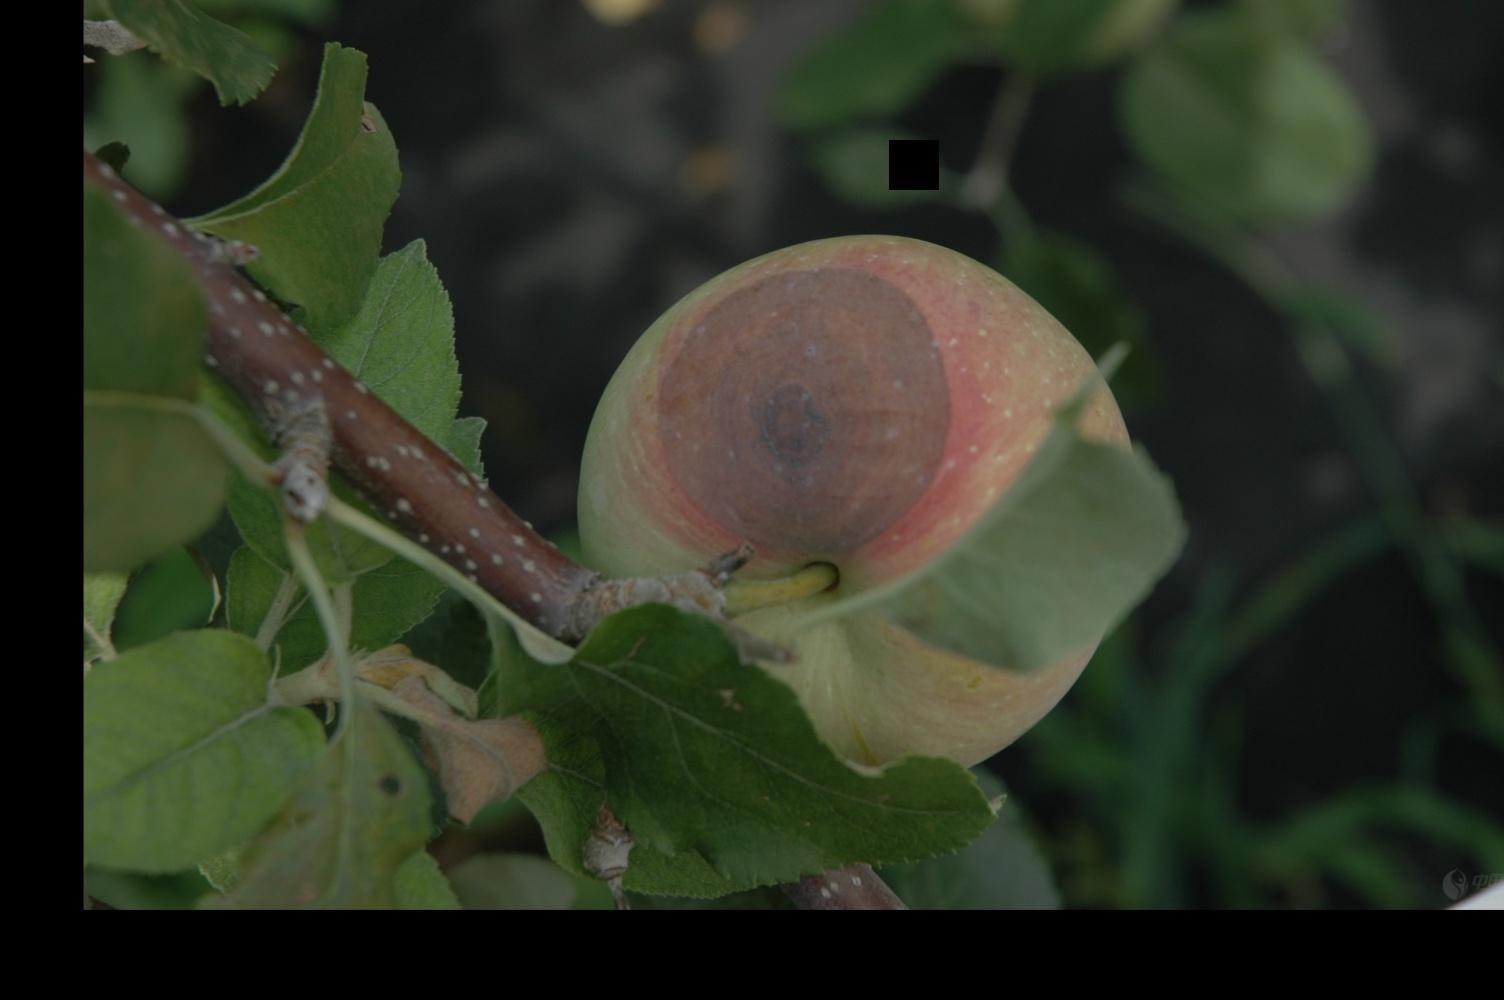rotten apple: (568, 217, 1156, 790)
